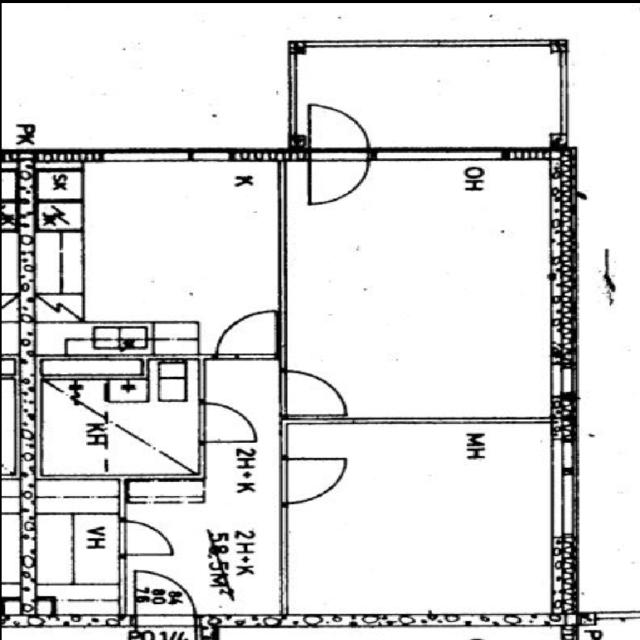door: (0, 4, 254, 153), (213, 308, 281, 361), (306, 153, 369, 209), (281, 368, 351, 418), (130, 566, 192, 618), (304, 99, 371, 147), (280, 456, 344, 506), (197, 400, 258, 444), (118, 518, 175, 557)
window: (271, 507, 298, 605), (547, 56, 577, 140), (548, 356, 582, 401), (100, 152, 186, 166)
zone: (288, 167, 547, 430), (278, 420, 578, 620), (67, 160, 289, 332), (306, 46, 567, 151), (35, 360, 202, 478), (18, 488, 123, 621), (34, 160, 82, 201)
